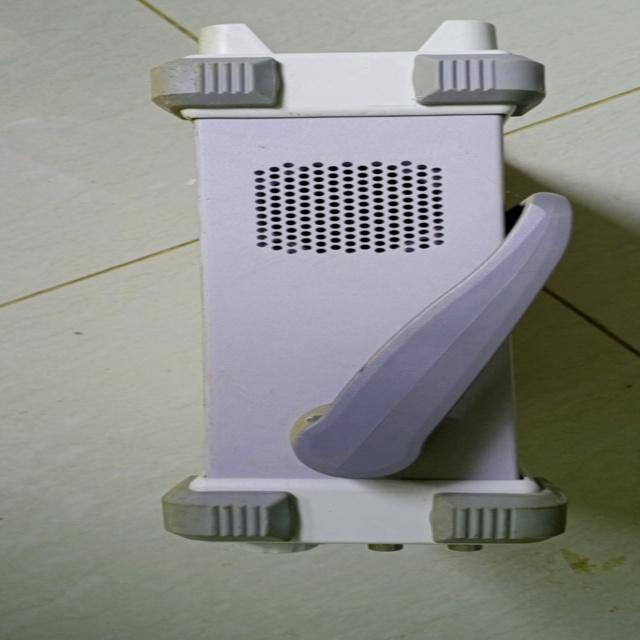Function Arbitrary Wave Form Generator 25Mhz: (109, 4, 633, 564)
